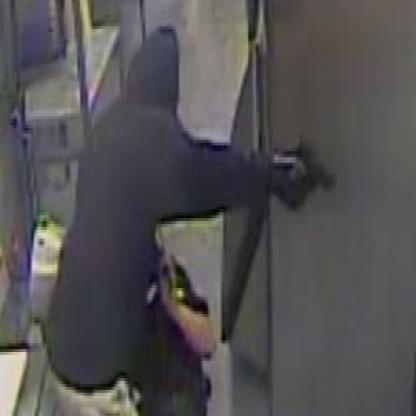gun: (277, 116, 344, 212)
